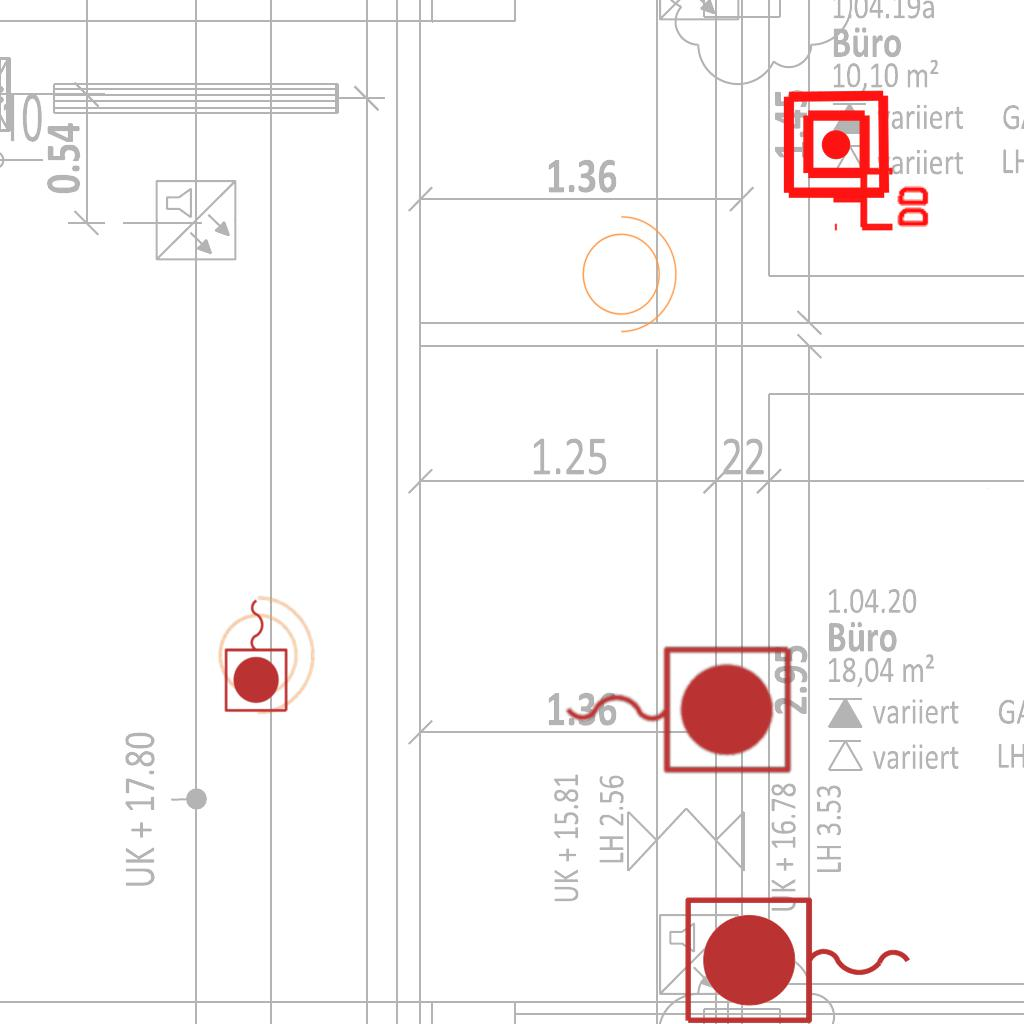Datenanschluss_zweifach: (830, 163, 933, 232)
NAM-Nichtautomatischer_Melder: (780, 88, 893, 201)
Scheinwerfer_fuer_Alarmbeleuchtung: (207, 586, 319, 718), (570, 205, 682, 337)
Zugtaster: (555, 636, 799, 780), (677, 890, 921, 1024), (221, 594, 293, 716)
